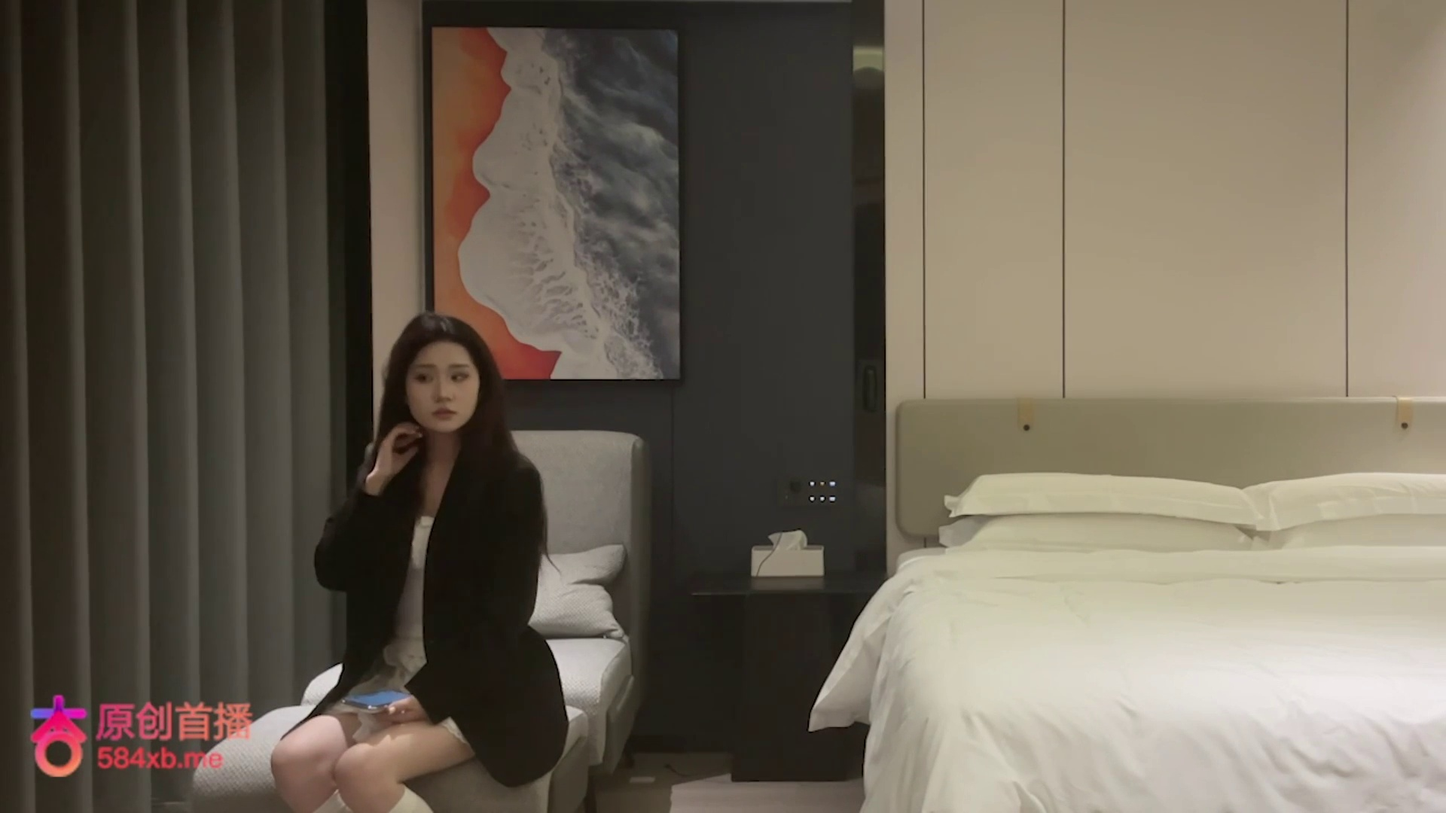sit: (270, 309, 569, 808)
